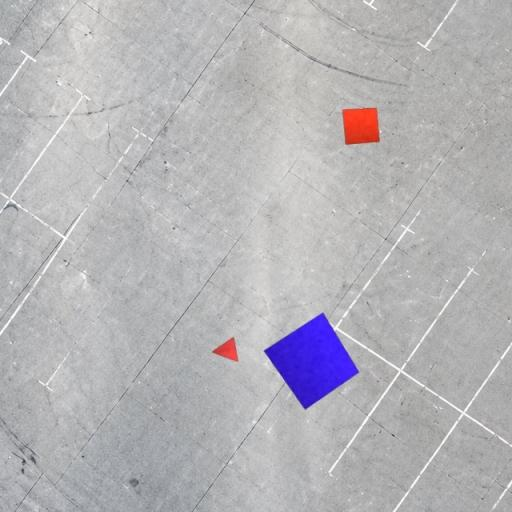BLUE_SQUARE: (263, 312, 360, 410)
RED_SQUARE: (342, 107, 380, 145)
